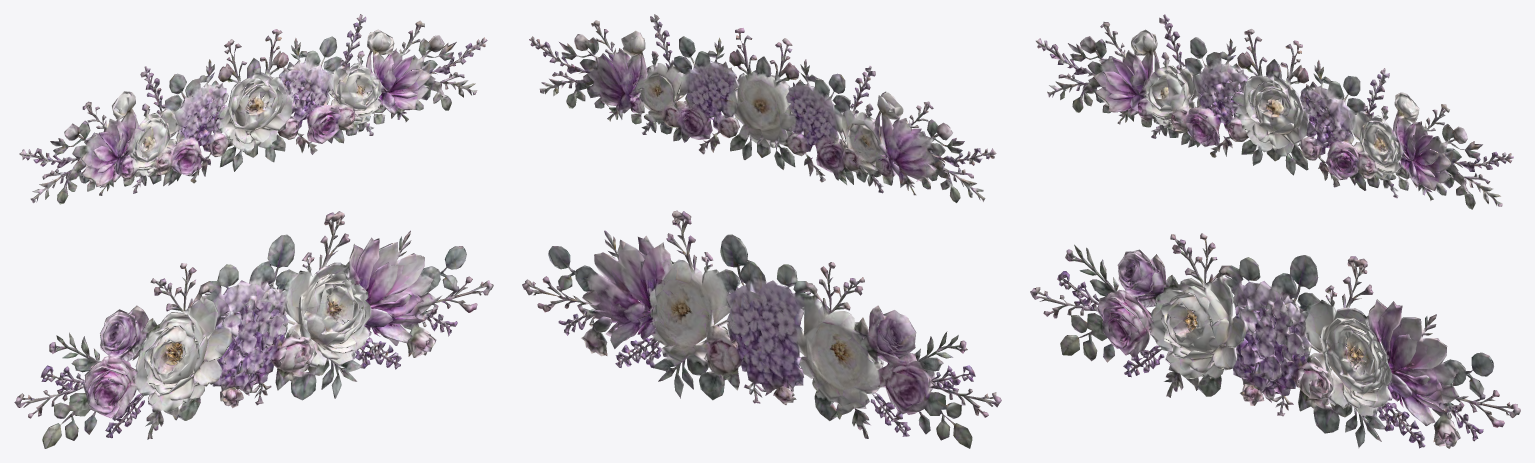
3 renders of one model, left to right at view 1: azimuth 30°, elevation 25°; view 2: azimuth 150°, elevation 25°; view 3: azimuth 330°, elevation 25°, orthographic. The views are drawn at different scales.
Parts seen in each view (by area): view 1: Mesh 4, Mesh 2; view 2: Mesh 4, Mesh 2; view 3: Mesh 4, Mesh 2.
Part boxes in pixels (box(x1,y1,x2,y2)): Mesh 4: box(14, 211, 493, 448); Mesh 2: box(19, 14, 487, 204); Mesh 4: box(522, 210, 1001, 448); Mesh 2: box(529, 14, 996, 202); Mesh 4: box(1030, 233, 1520, 448); Mesh 2: box(1036, 14, 1513, 209).
Size of the model in its own units: 1.9 by 1.46 by 0.0617.
2 materials, 2 textured.
